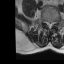CCS_normal: (49, 20, 51, 30)
LFS_normal: (53, 18, 56, 26)
LLS_normal: (51, 19, 53, 28)
RFS_normal: (44, 18, 47, 25)
RLS_normal: (47, 19, 49, 29)
